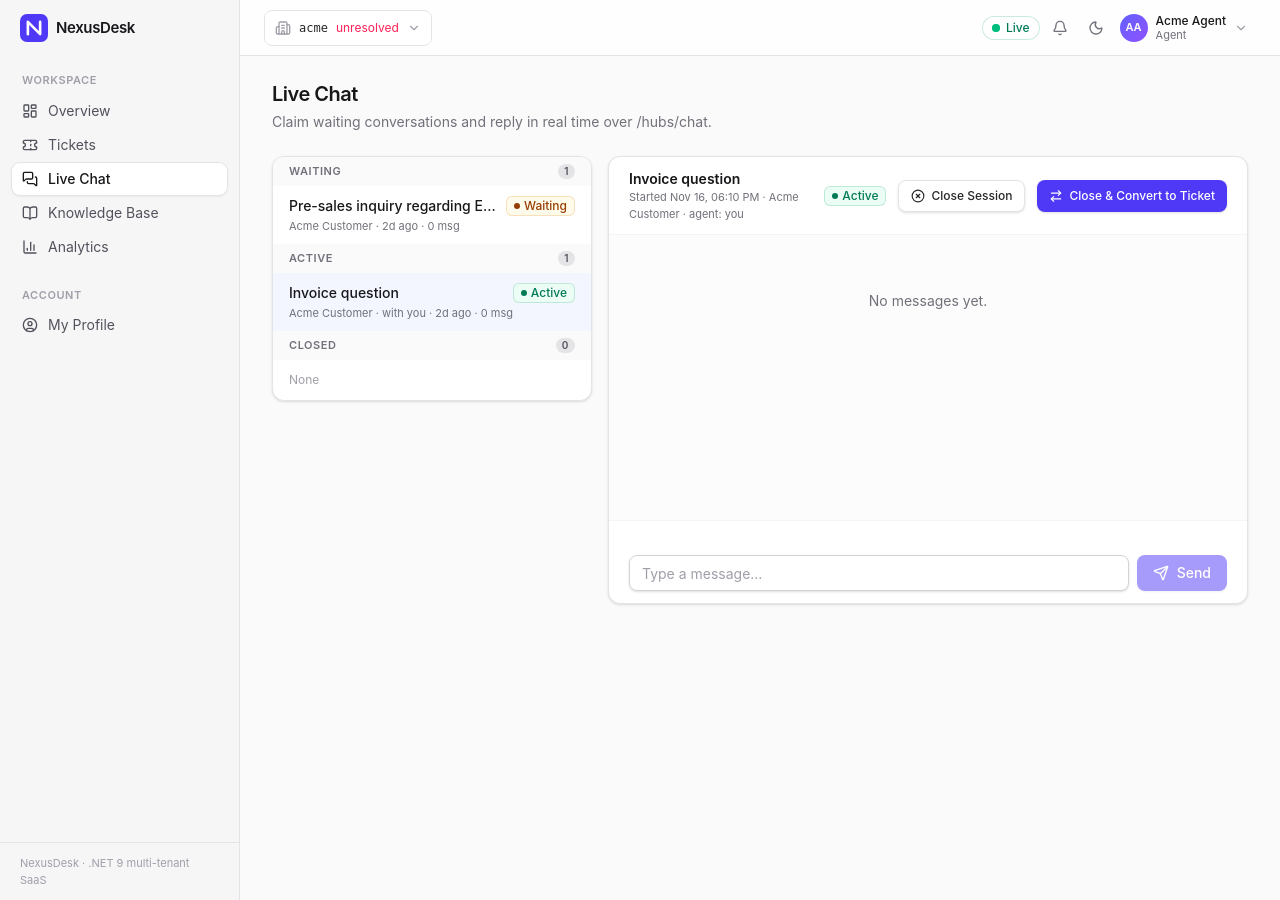
it: Live chat — agent console › closes an active session without conversion
The image size is (1280, 900).
Click the button "Close Session".
click(962, 196)  # box [898, 180, 1026, 212]
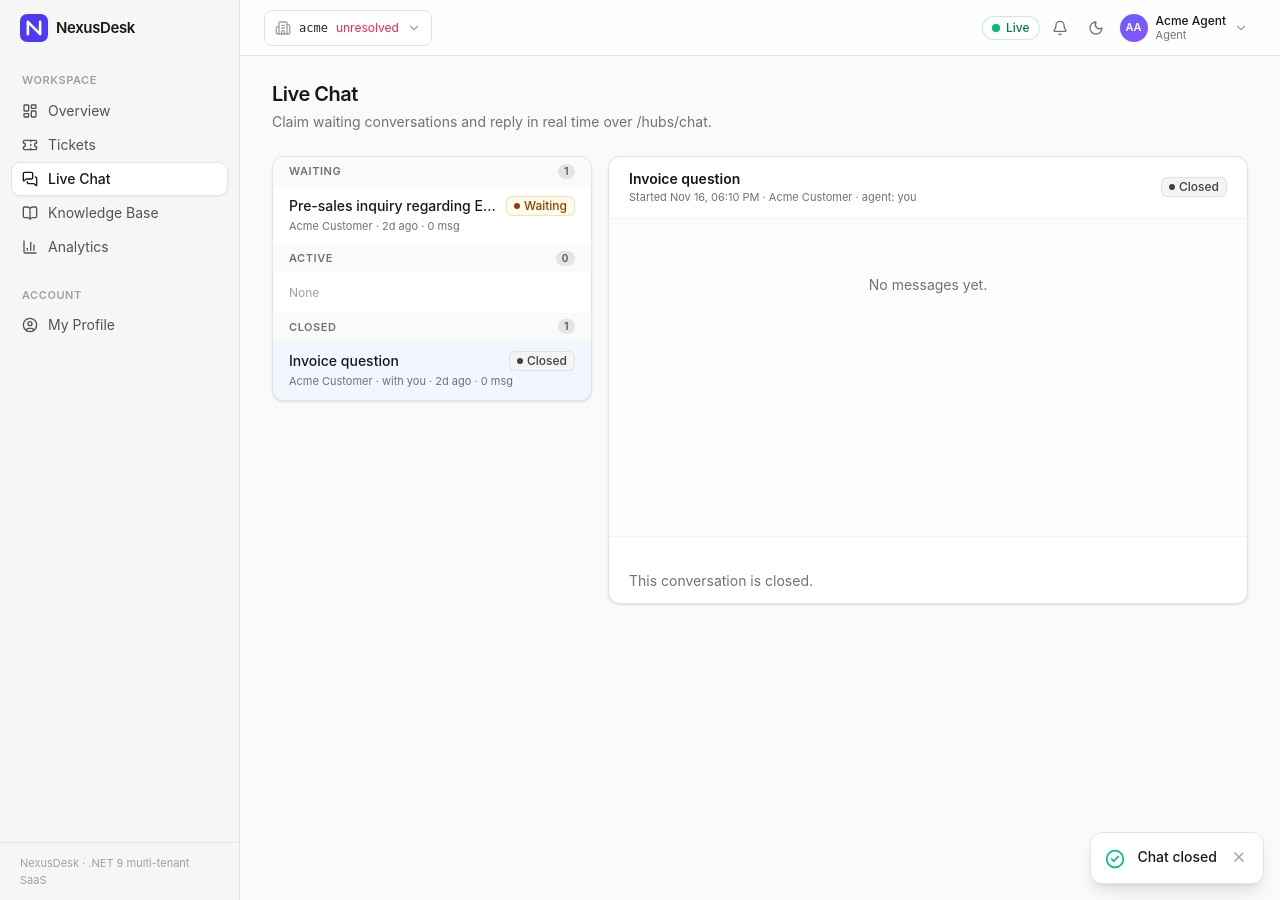
Result: the text "This conversation is closed." is shown at [629, 572, 813, 589]
